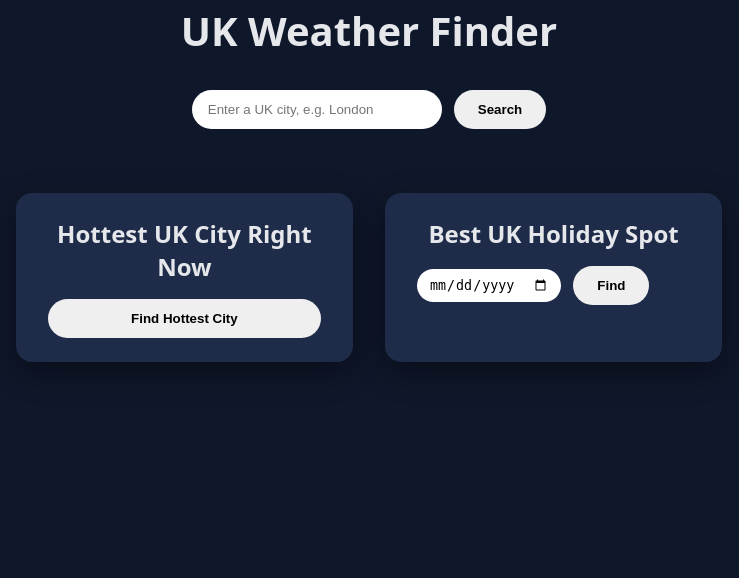
Test: UK Weather Finder › Best Holiday Spot › optional field degradation › renders without crashing when icon is absent
This screenshot has width=739, height=578.
Type "2025-07-15" into the date field with test id "date-select". click: (489, 286)
box: x1=417 y1=269 x2=561 y2=302
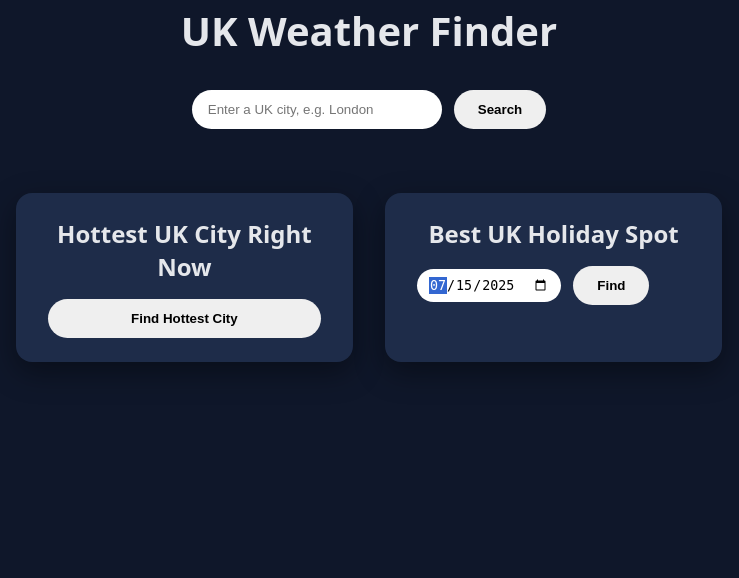
Click the button with test id "holiday-submit". click: (611, 286)
box: x1=573 y1=266 x2=649 y2=305
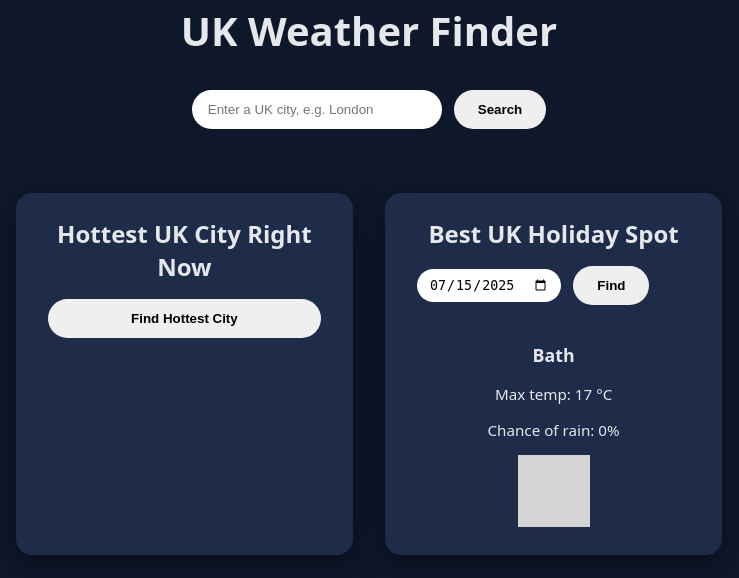
expect the heading "Bath" is shown: met, box x1=532 y1=343 x2=575 y2=367
expect the text "17" is shown: met, box x1=575 y1=384 x2=592 y2=404
